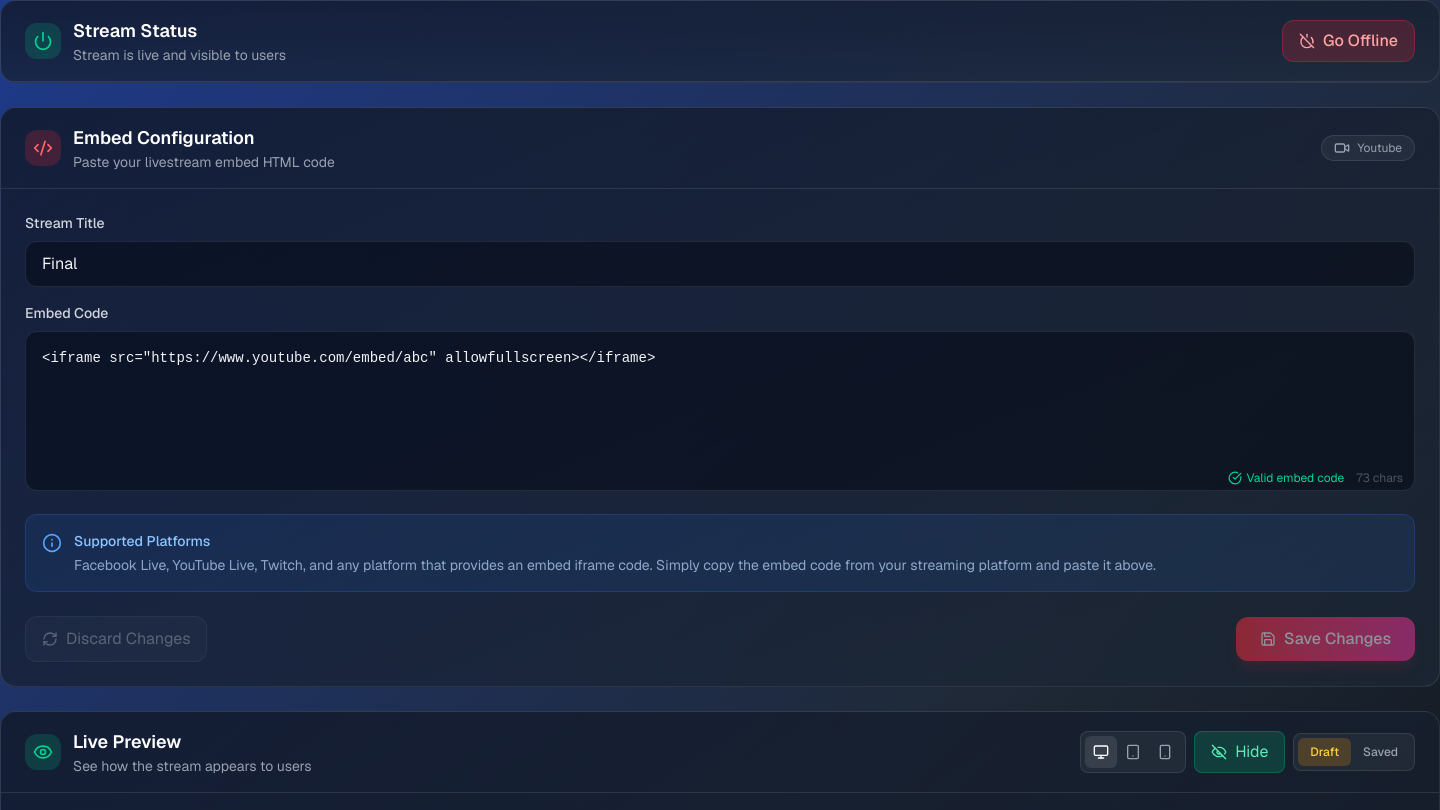
Test: LiveStreamManager › discards unsaved edits
Step 1. Replace the text in the field with placeholder "Enter stream title" with "Changed" → point(720, 264), box [25, 241, 1415, 287]
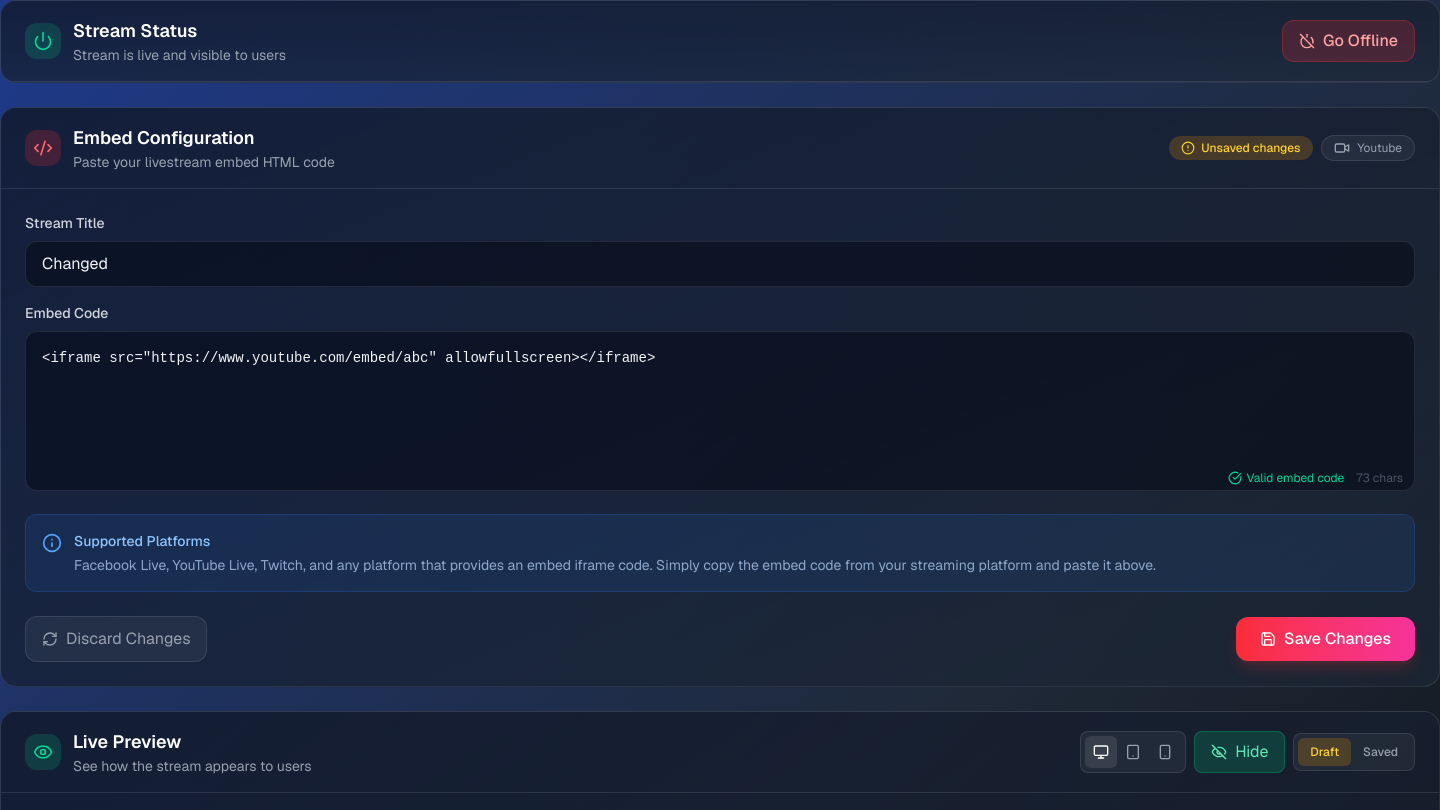
Step 2. Replace the text in the text box with placeholder "Paste your livestream embed HTML here" with "<iframe src=\"https://www.facebook.com/plugins/video.php\"></iframe>" → point(720, 411), box [25, 331, 1415, 491]
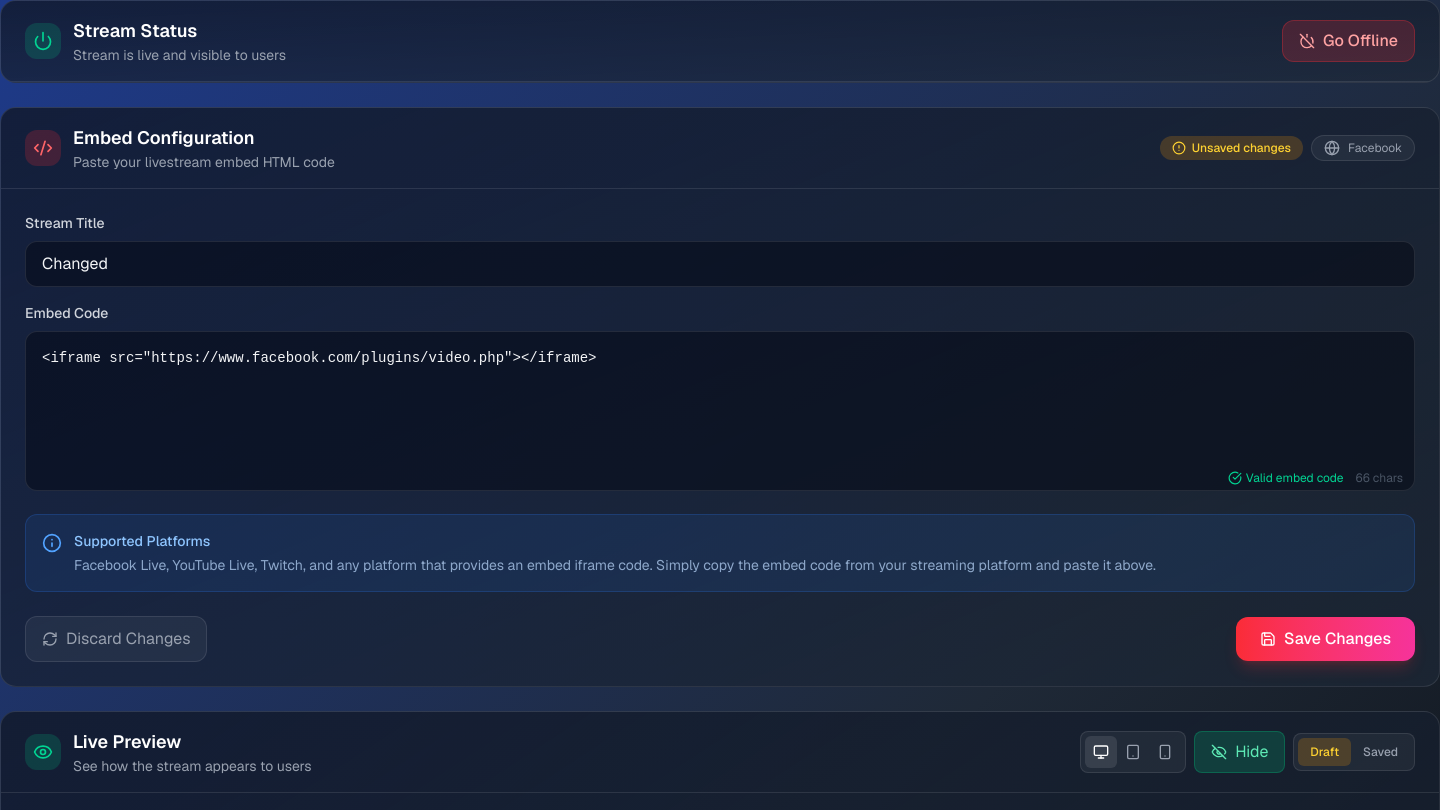
Expected: the text "facebook" is shown, [1348, 140, 1402, 156]
Step 3. Click the button "Discard Changes" → point(116, 639), box [25, 616, 208, 662]
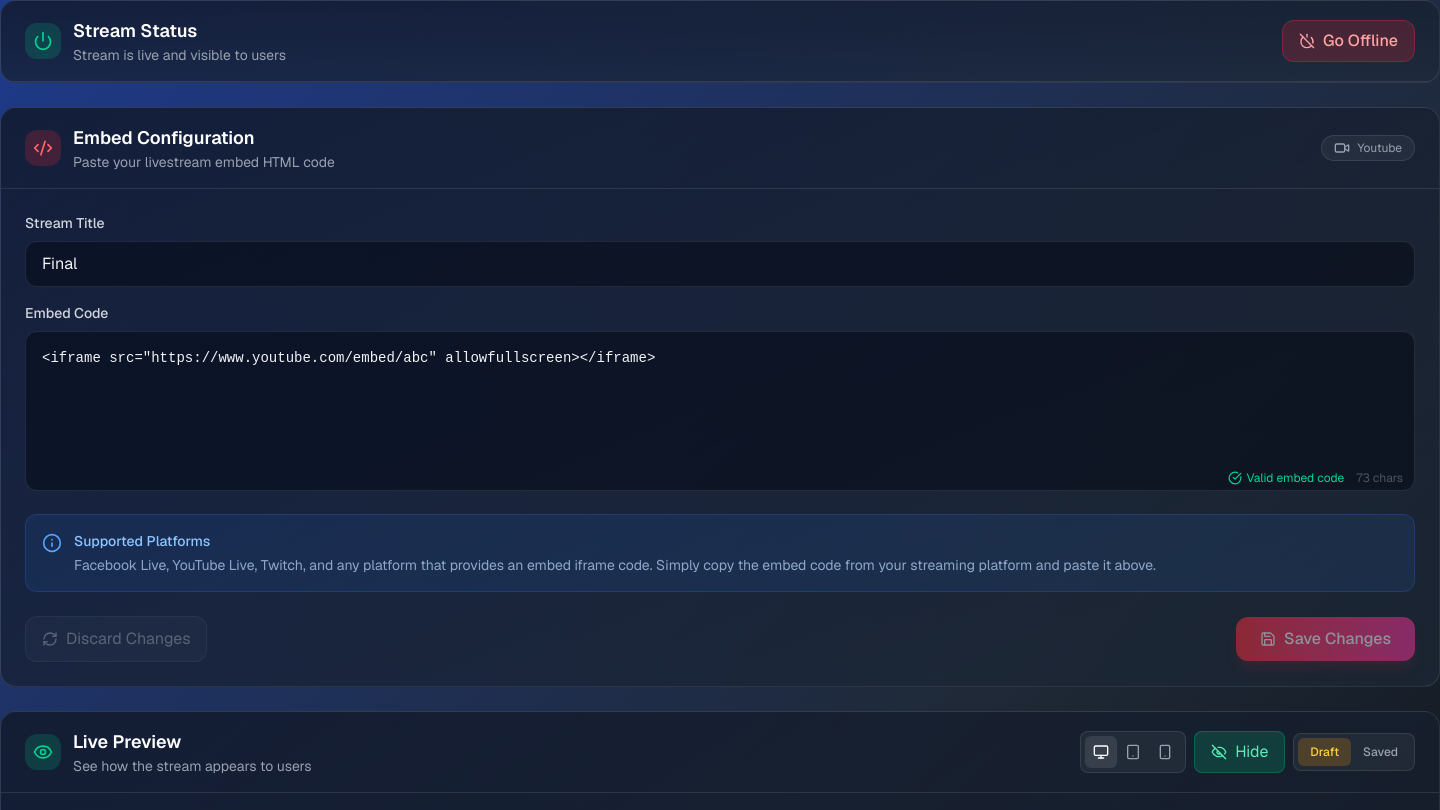
Expected: the field with placeholder "Enter stream title" holds "Final", [25, 241, 1415, 287]
Expected: the text box with placeholder "Paste your livestream embed HTML here" holds "<iframe src=\"https://www.youtube.com/embed/abc\" allowfullscreen></iframe>", [25, 331, 1415, 491]
